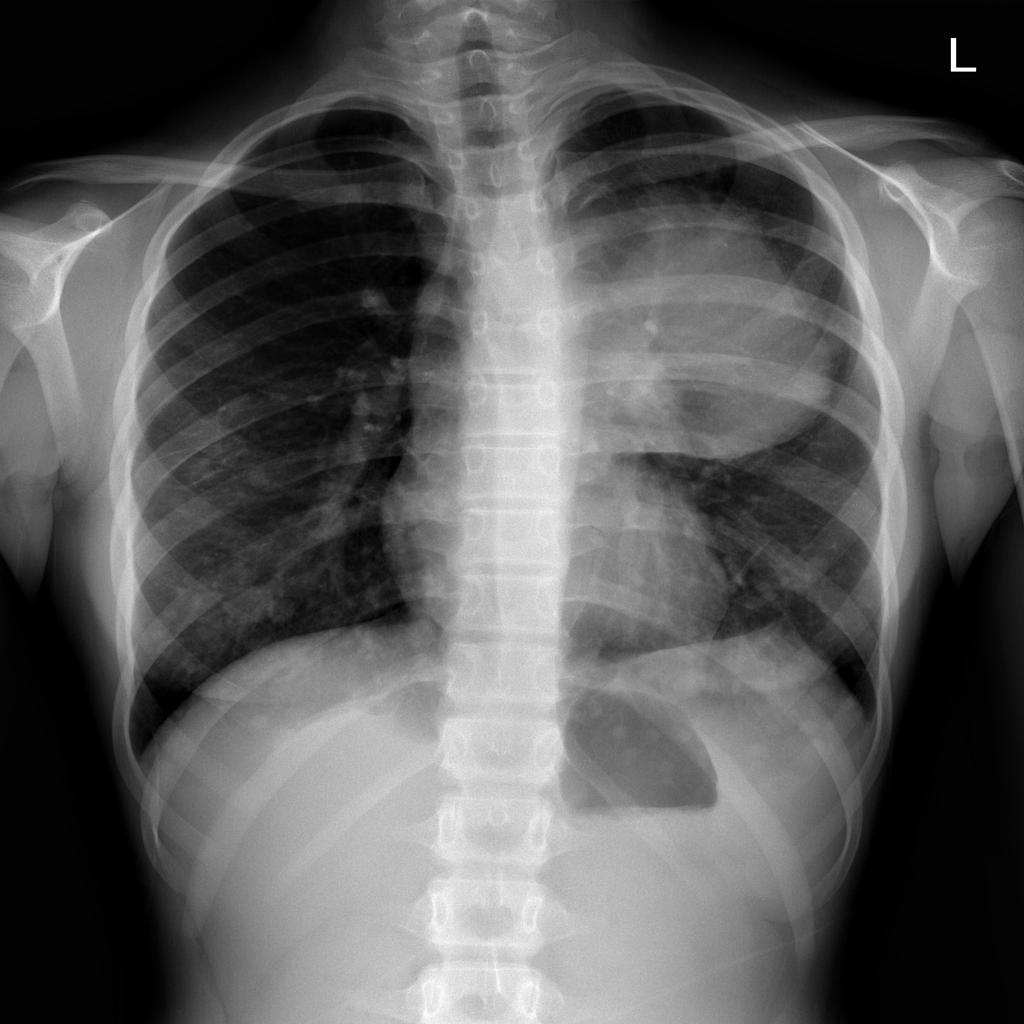nodule: (605, 205, 834, 473), (230, 452, 285, 499)
